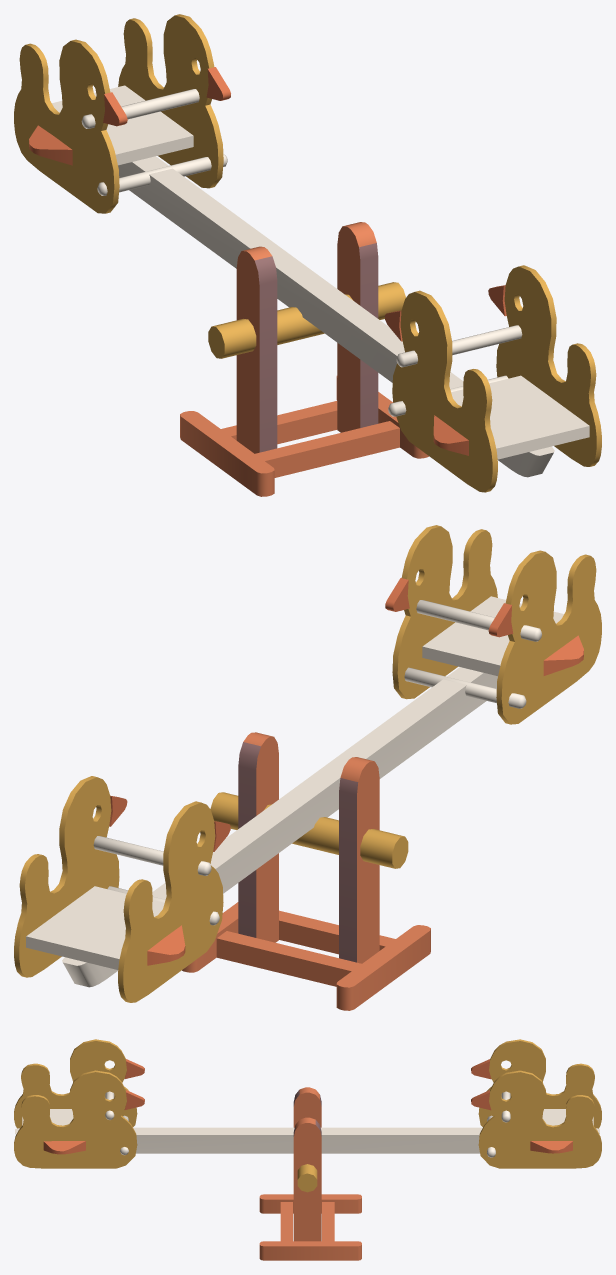
File: SeeSaw_Bird_01.fbx
The picture shows the model from 3 angles, top to bottom: view 1: azimuth 30°, elevation 25°; view 2: azimuth 150°, elevation 25°; view 3: azimuth 270°, elevation 25°; orthographic projection. The views are drawn at different scales.
Visible parts, largest first — view 1: SeeSaw_Bird_01_top, SeeSaw_Bird_01_bottom; view 2: SeeSaw_Bird_01_top, SeeSaw_Bird_01_bottom; view 3: SeeSaw_Bird_01_top, SeeSaw_Bird_01_bottom.
Part boxes in pixels (x1,y1,x2,y2): SeeSaw_Bird_01_top: (14, 14, 601, 492); SeeSaw_Bird_01_bottom: (180, 222, 428, 496); SeeSaw_Bird_01_top: (14, 525, 601, 1002); SeeSaw_Bird_01_bottom: (182, 732, 430, 1010); SeeSaw_Bird_01_top: (14, 1039, 601, 1168); SeeSaw_Bird_01_bottom: (259, 1087, 361, 1260).
Bounding box in the file's own units: 0.7842 × 1.2 × 3.57.
